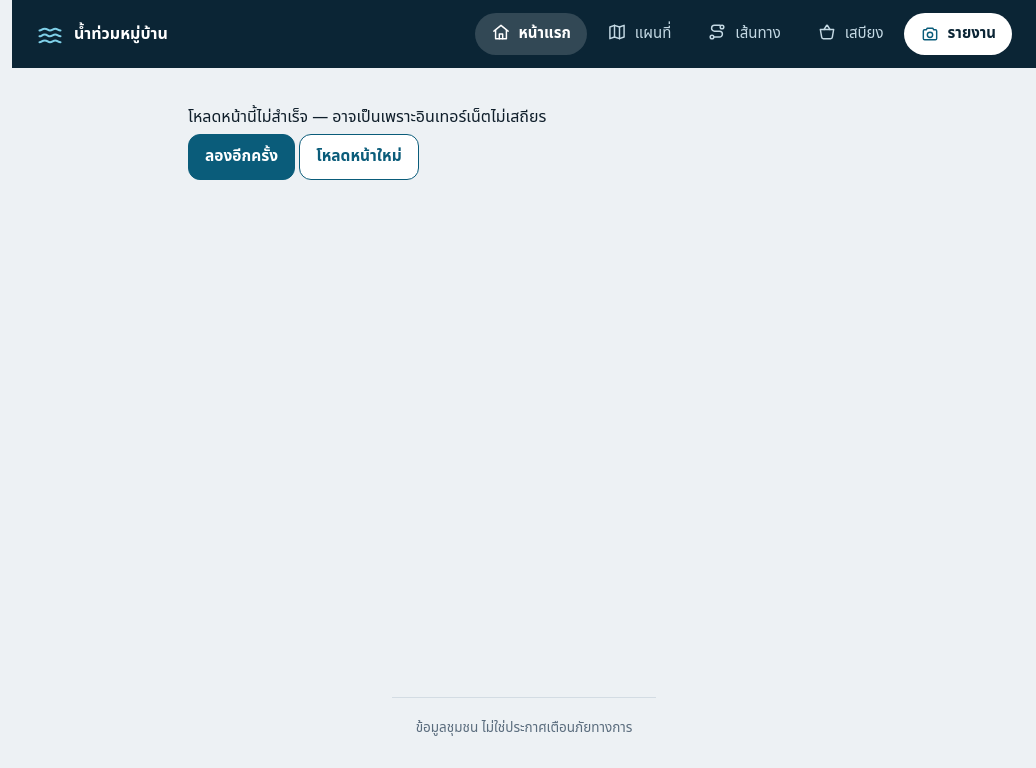
shows the Thai fallback with the disclaimer still visible when a page throws, and retry recovers
This screenshot has width=1036, height=768.
expect the text "โหลดหน้านี้ไม่สำเร็จ — อาจเป็นเพราะอินเทอร์เน็ตไม่เสถียร" is shown: met, box [188,105,546,129]
expect the text "ข้อมูลชุมชน ไม่ใช่ประกาศเตือนภัยทางการ" is shown: met, box [392,697,656,767]
Step 1. Click the button "ลองอีกครั้ง" → click(242, 157), box [188,134,295,180]
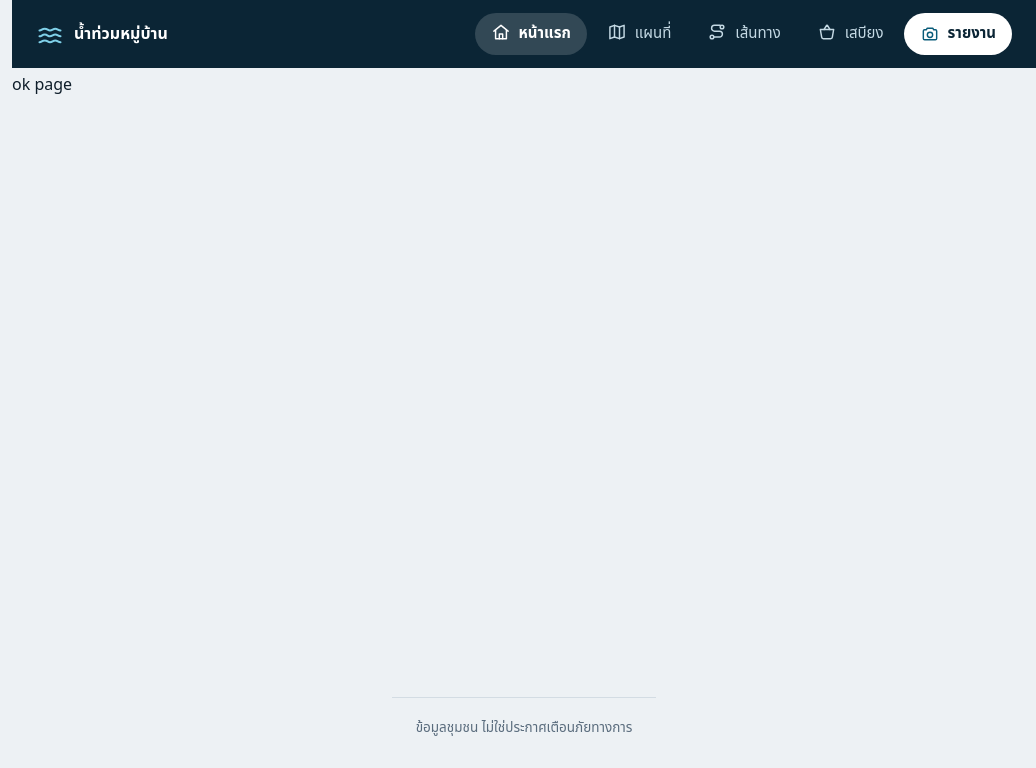
expect the text "ข้อมูลชุมชน ไม่ใช่ประกาศเตือนภัยทางการ" is shown: met, box [392,697,656,767]
expect the text "ok page" is shown: met, box [12,73,72,97]
